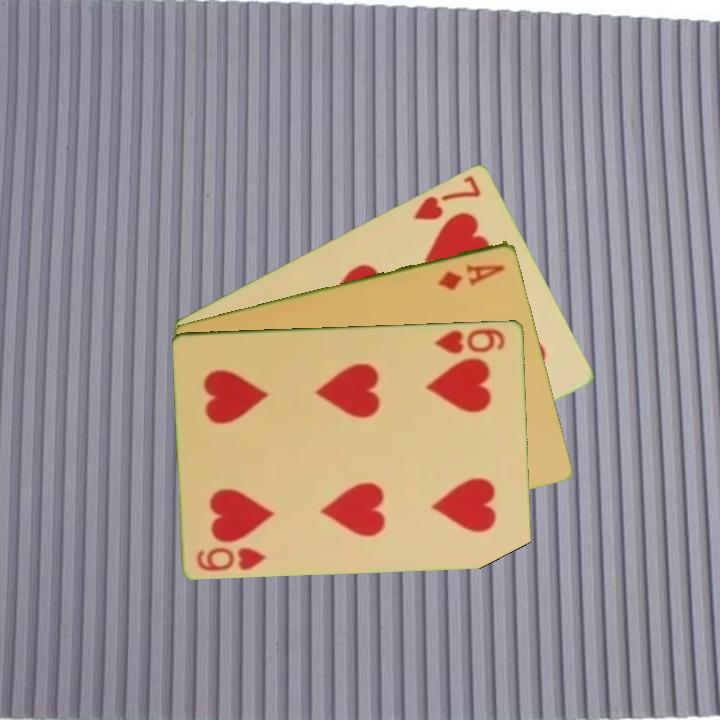6h: (431, 324, 508, 356), (193, 543, 269, 574)
7h: (410, 171, 484, 223)
Ad: (435, 259, 508, 293)
